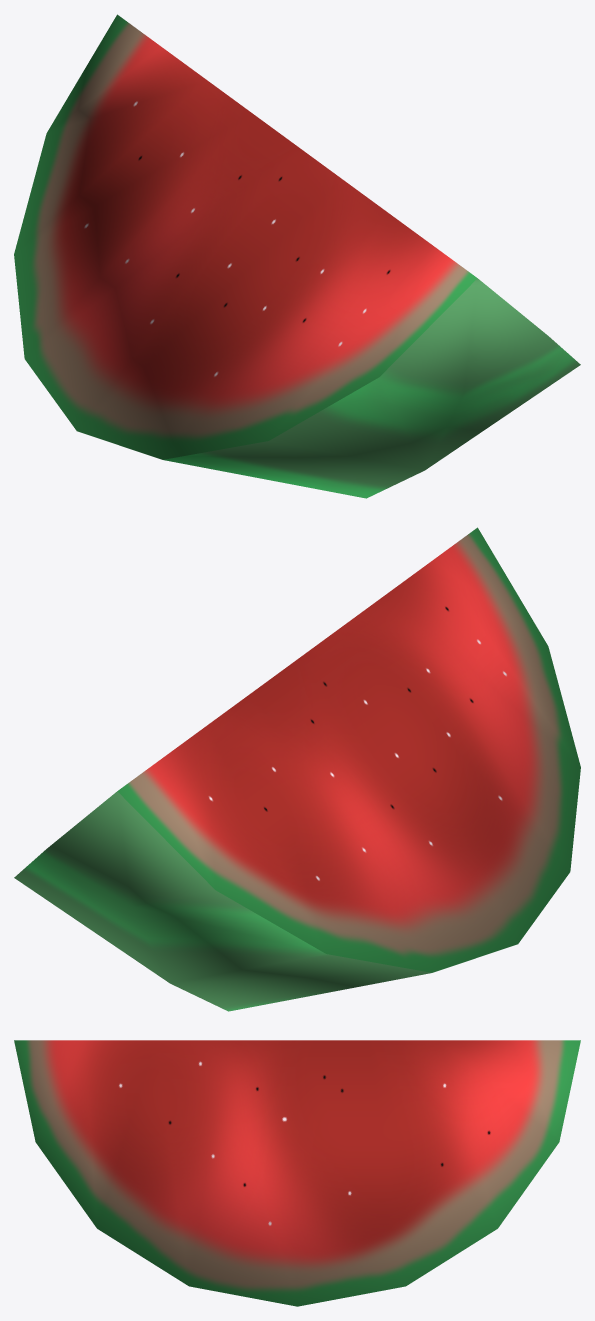
Rendered from watermelon slice.fbx.
The picture shows the model from 3 angles, top to bottom: view 1: azimuth 30°, elevation 25°; view 2: azimuth 150°, elevation 25°; view 3: azimuth 270°, elevation 25°; orthographic projection. The views are drawn at different scales.
Parts seen in each view (by area): view 1: Sphere; view 2: Sphere; view 3: Sphere.
Part boxes in pixels (<box>): Sphere: <box>14,14,580,498</box>; Sphere: <box>14,527,580,1011</box>; Sphere: <box>14,1040,580,1306</box>.
Size of the model in its own units: 1.41 by 1 by 2.
Materials: 1 (1 with a texture image).
